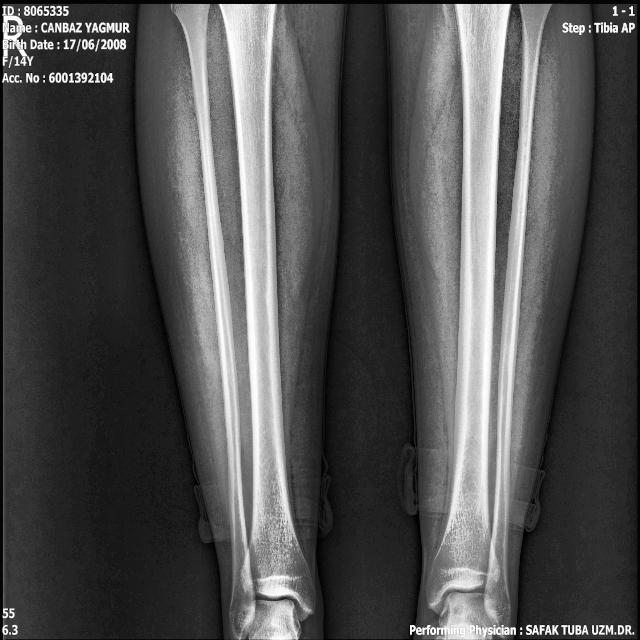Not_Fracture: (129, 0, 597, 640)
